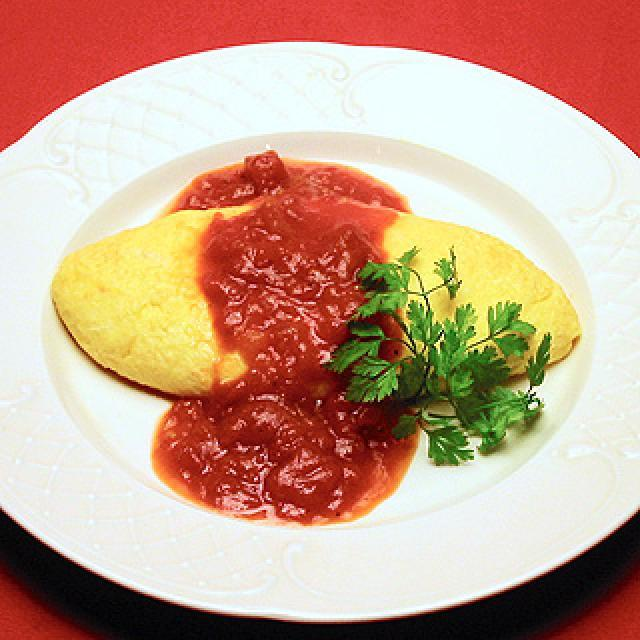Omelet: (39, 178, 596, 417)
